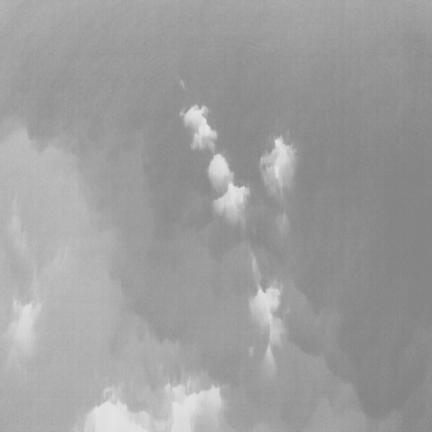flukeprints: (250, 286, 284, 380), (260, 137, 295, 201), (180, 105, 217, 151), (213, 182, 249, 225), (208, 154, 233, 193)
